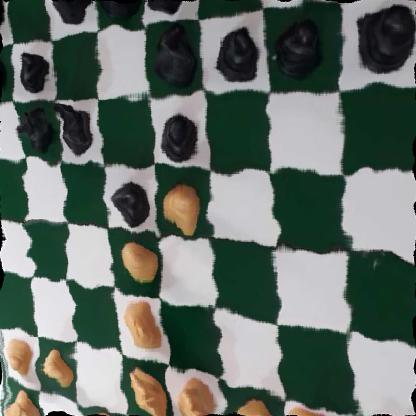black-bishop: (153, 21, 200, 82), (52, 0, 94, 26)
black-king: (141, 0, 191, 20)
black-knight: (53, 98, 92, 151), (13, 105, 54, 154)
black-pawn: (348, 0, 416, 75), (269, 14, 325, 82), (213, 22, 264, 83), (157, 113, 203, 163), (111, 177, 153, 228), (17, 45, 49, 95), (0, 46, 10, 93)
black-queen: (94, 0, 139, 23)
black-rook: (0, 0, 9, 43)
white-bishop: (121, 296, 168, 354), (85, 408, 127, 416)
white-knight: (127, 365, 169, 416), (171, 375, 218, 416)
white-pawn: (162, 180, 204, 231), (119, 234, 158, 284), (4, 334, 38, 382), (42, 342, 74, 393), (235, 395, 283, 416), (289, 398, 338, 416)
white-rook: (4, 382, 42, 416)
